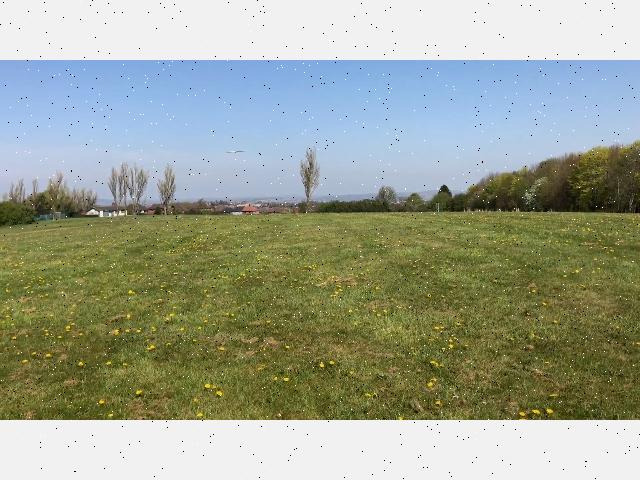Anti-Drone: (222, 145, 248, 157)
